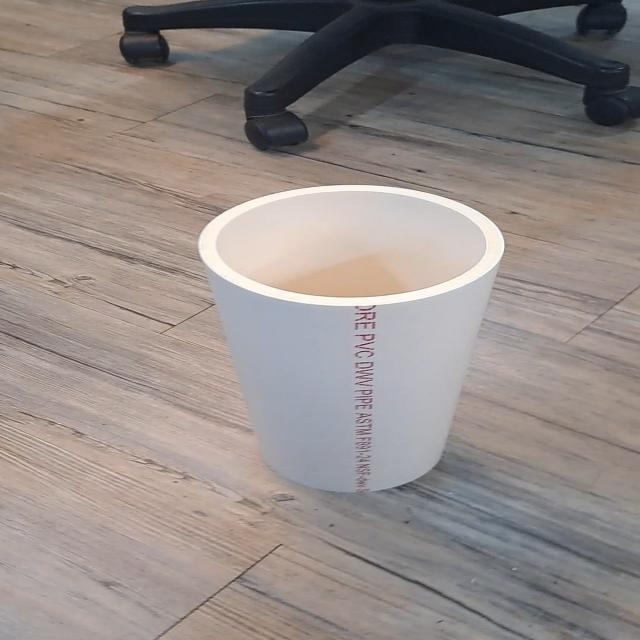CORAL: (175, 170, 566, 500)
